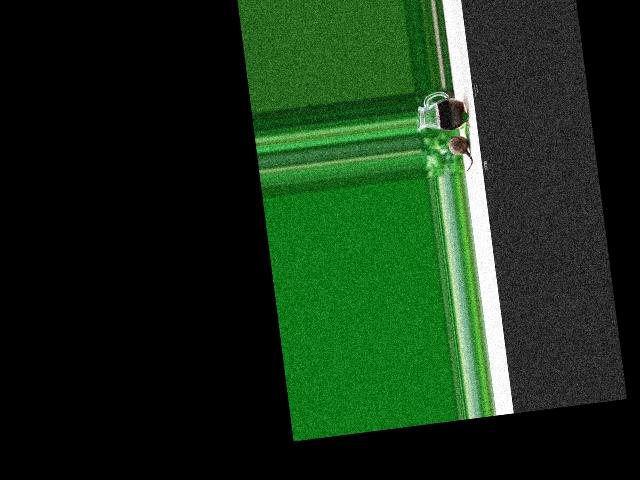beet: (448, 133, 474, 172)
